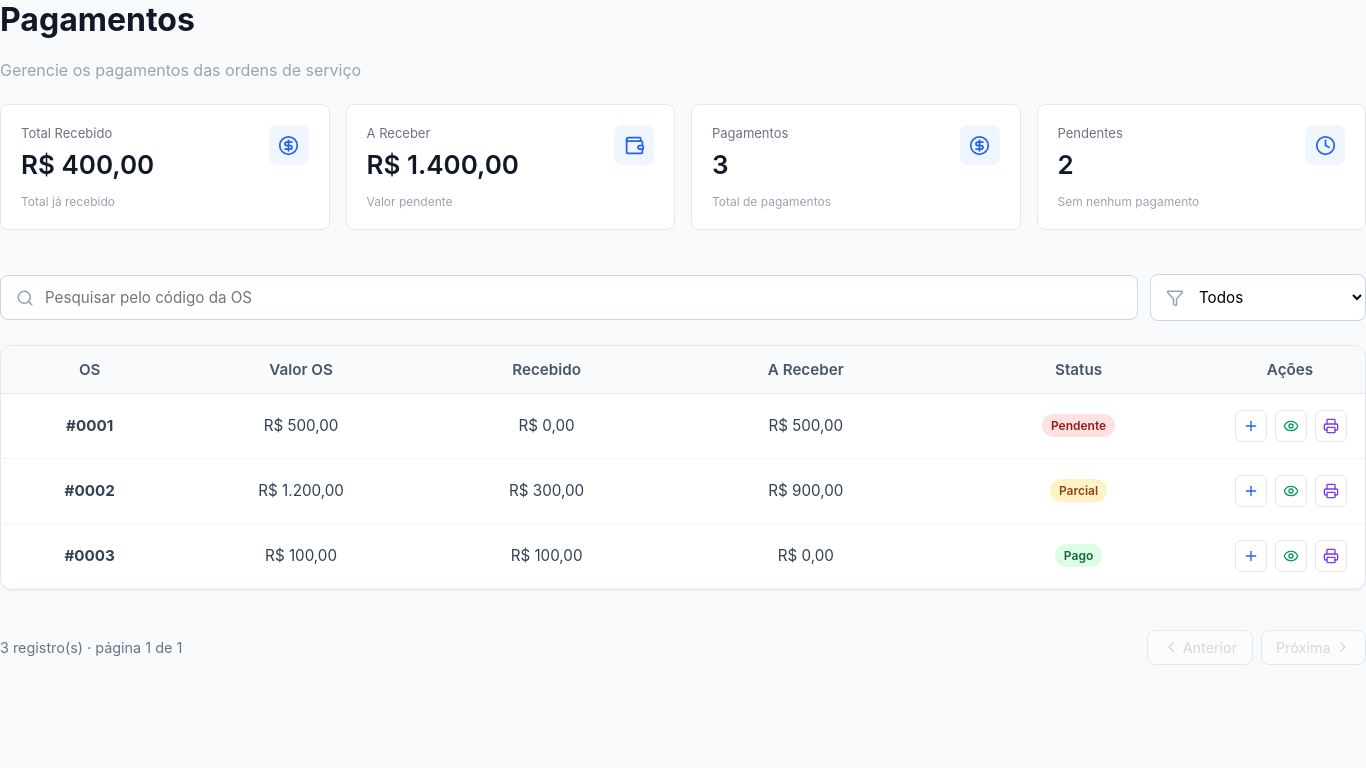
Test: Página de Pagamentos › registrar pagamento › valor e meio de pagamento são obrigatórios
Expected: the text "#0001" is shown, [66, 416, 113, 435]
Click the button titled "Registrar Pagamento" in the row of "0001": point(1251, 426) [1235, 410, 1267, 442]
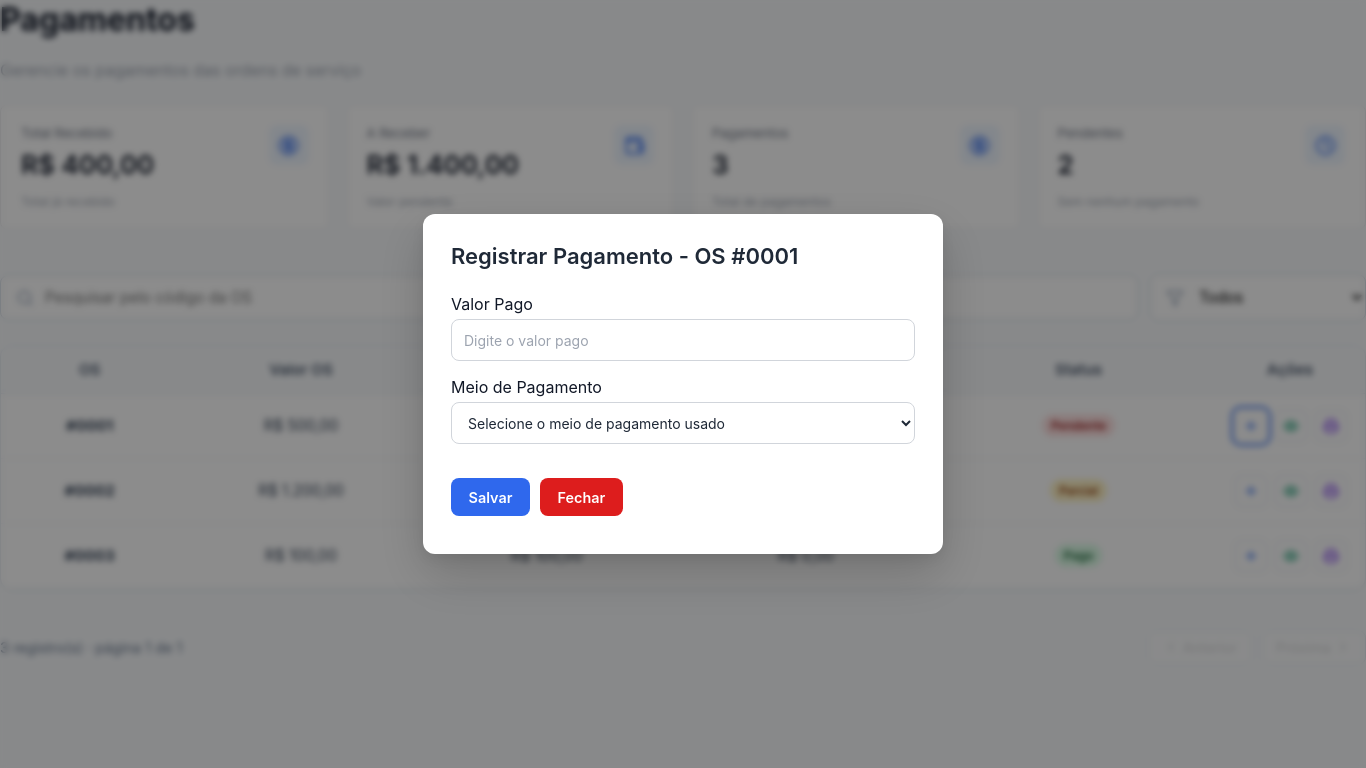
Click the button "Salvar": point(490, 497) [451, 478, 530, 516]
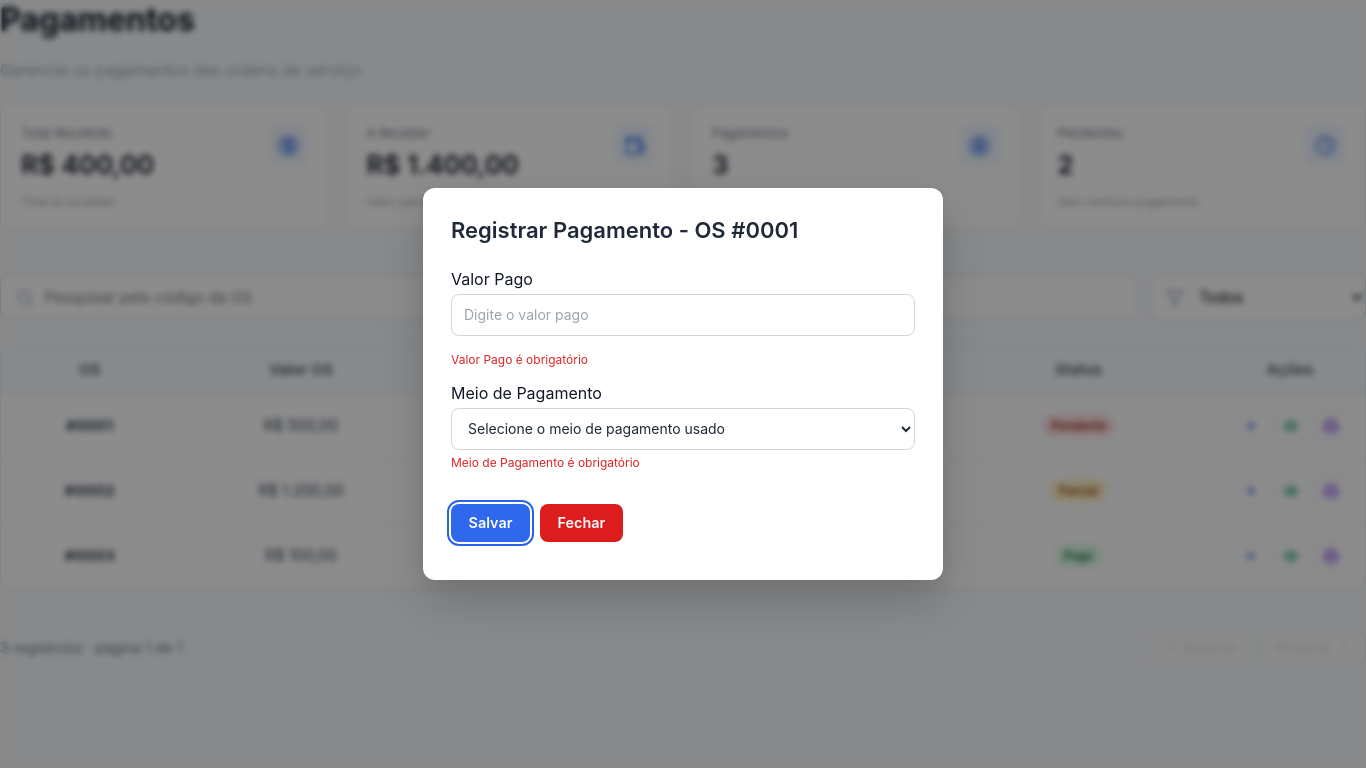
Now the text "Valor Pago é obrigatório" is shown, box [451, 352, 588, 367]
Now the text "Meio de Pagamento é obrigatório" is shown, box [451, 455, 640, 470]
